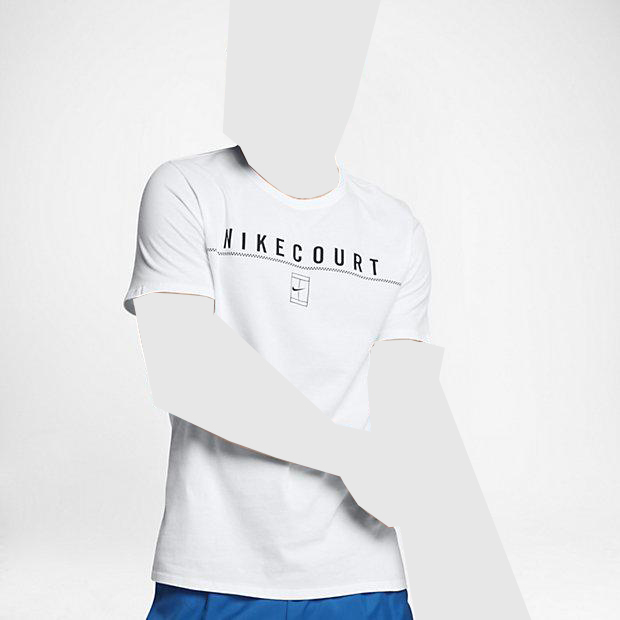teeshirt: (123, 146, 443, 595)
